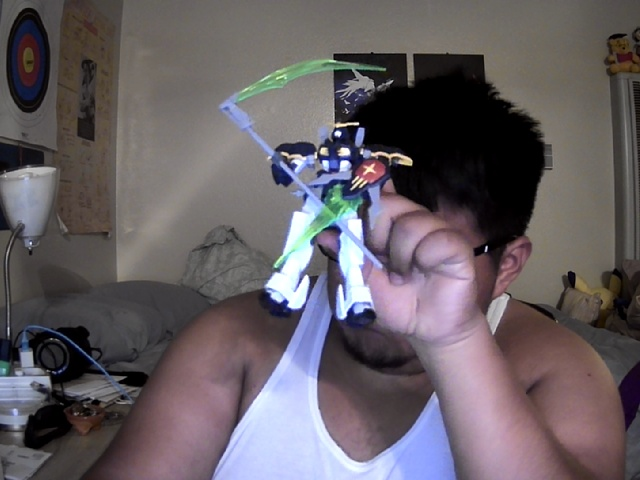Deathsythe: (220, 59, 412, 325)
